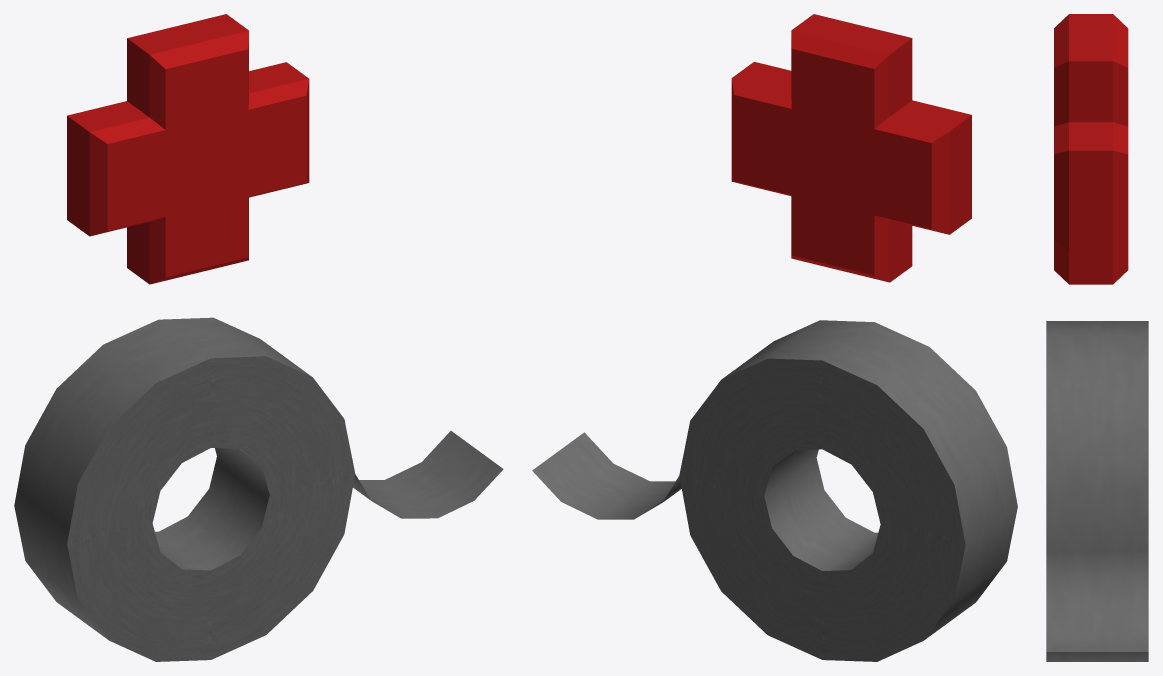
The model's file is health_ductTape.fbx.
3 renders of one model, left to right at view 1: azimuth 30°, elevation 25°; view 2: azimuth 150°, elevation 25°; view 3: azimuth 270°, elevation 25°, orthographic. The views are drawn at different scales.
Parts seen in each view (by area): view 1: ductTape, plus; view 2: ductTape, plus; view 3: ductTape, plus.
Boxes of the visible parts, box(x1,y1,x2,y2) form: ductTape: box(14, 317, 503, 661); plus: box(67, 14, 309, 284); ductTape: box(532, 320, 1017, 661); plus: box(731, 14, 971, 282); ductTape: box(1046, 321, 1148, 661); plus: box(1054, 14, 1128, 284).
Bounding box in the file's own units: 3.42 × 4.56 × 0.7157.
Materials: 1 (1 with a texture image).
